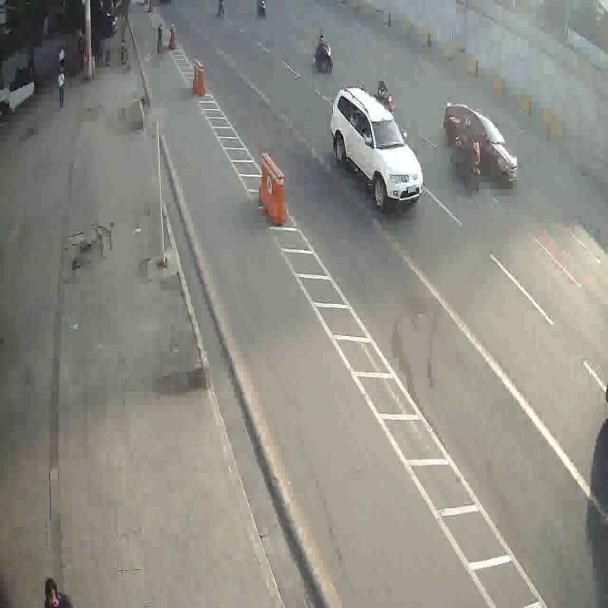motorcyclist: (452, 136, 484, 199), (311, 32, 335, 74)
vehicle: (328, 86, 425, 210), (444, 102, 518, 193)
